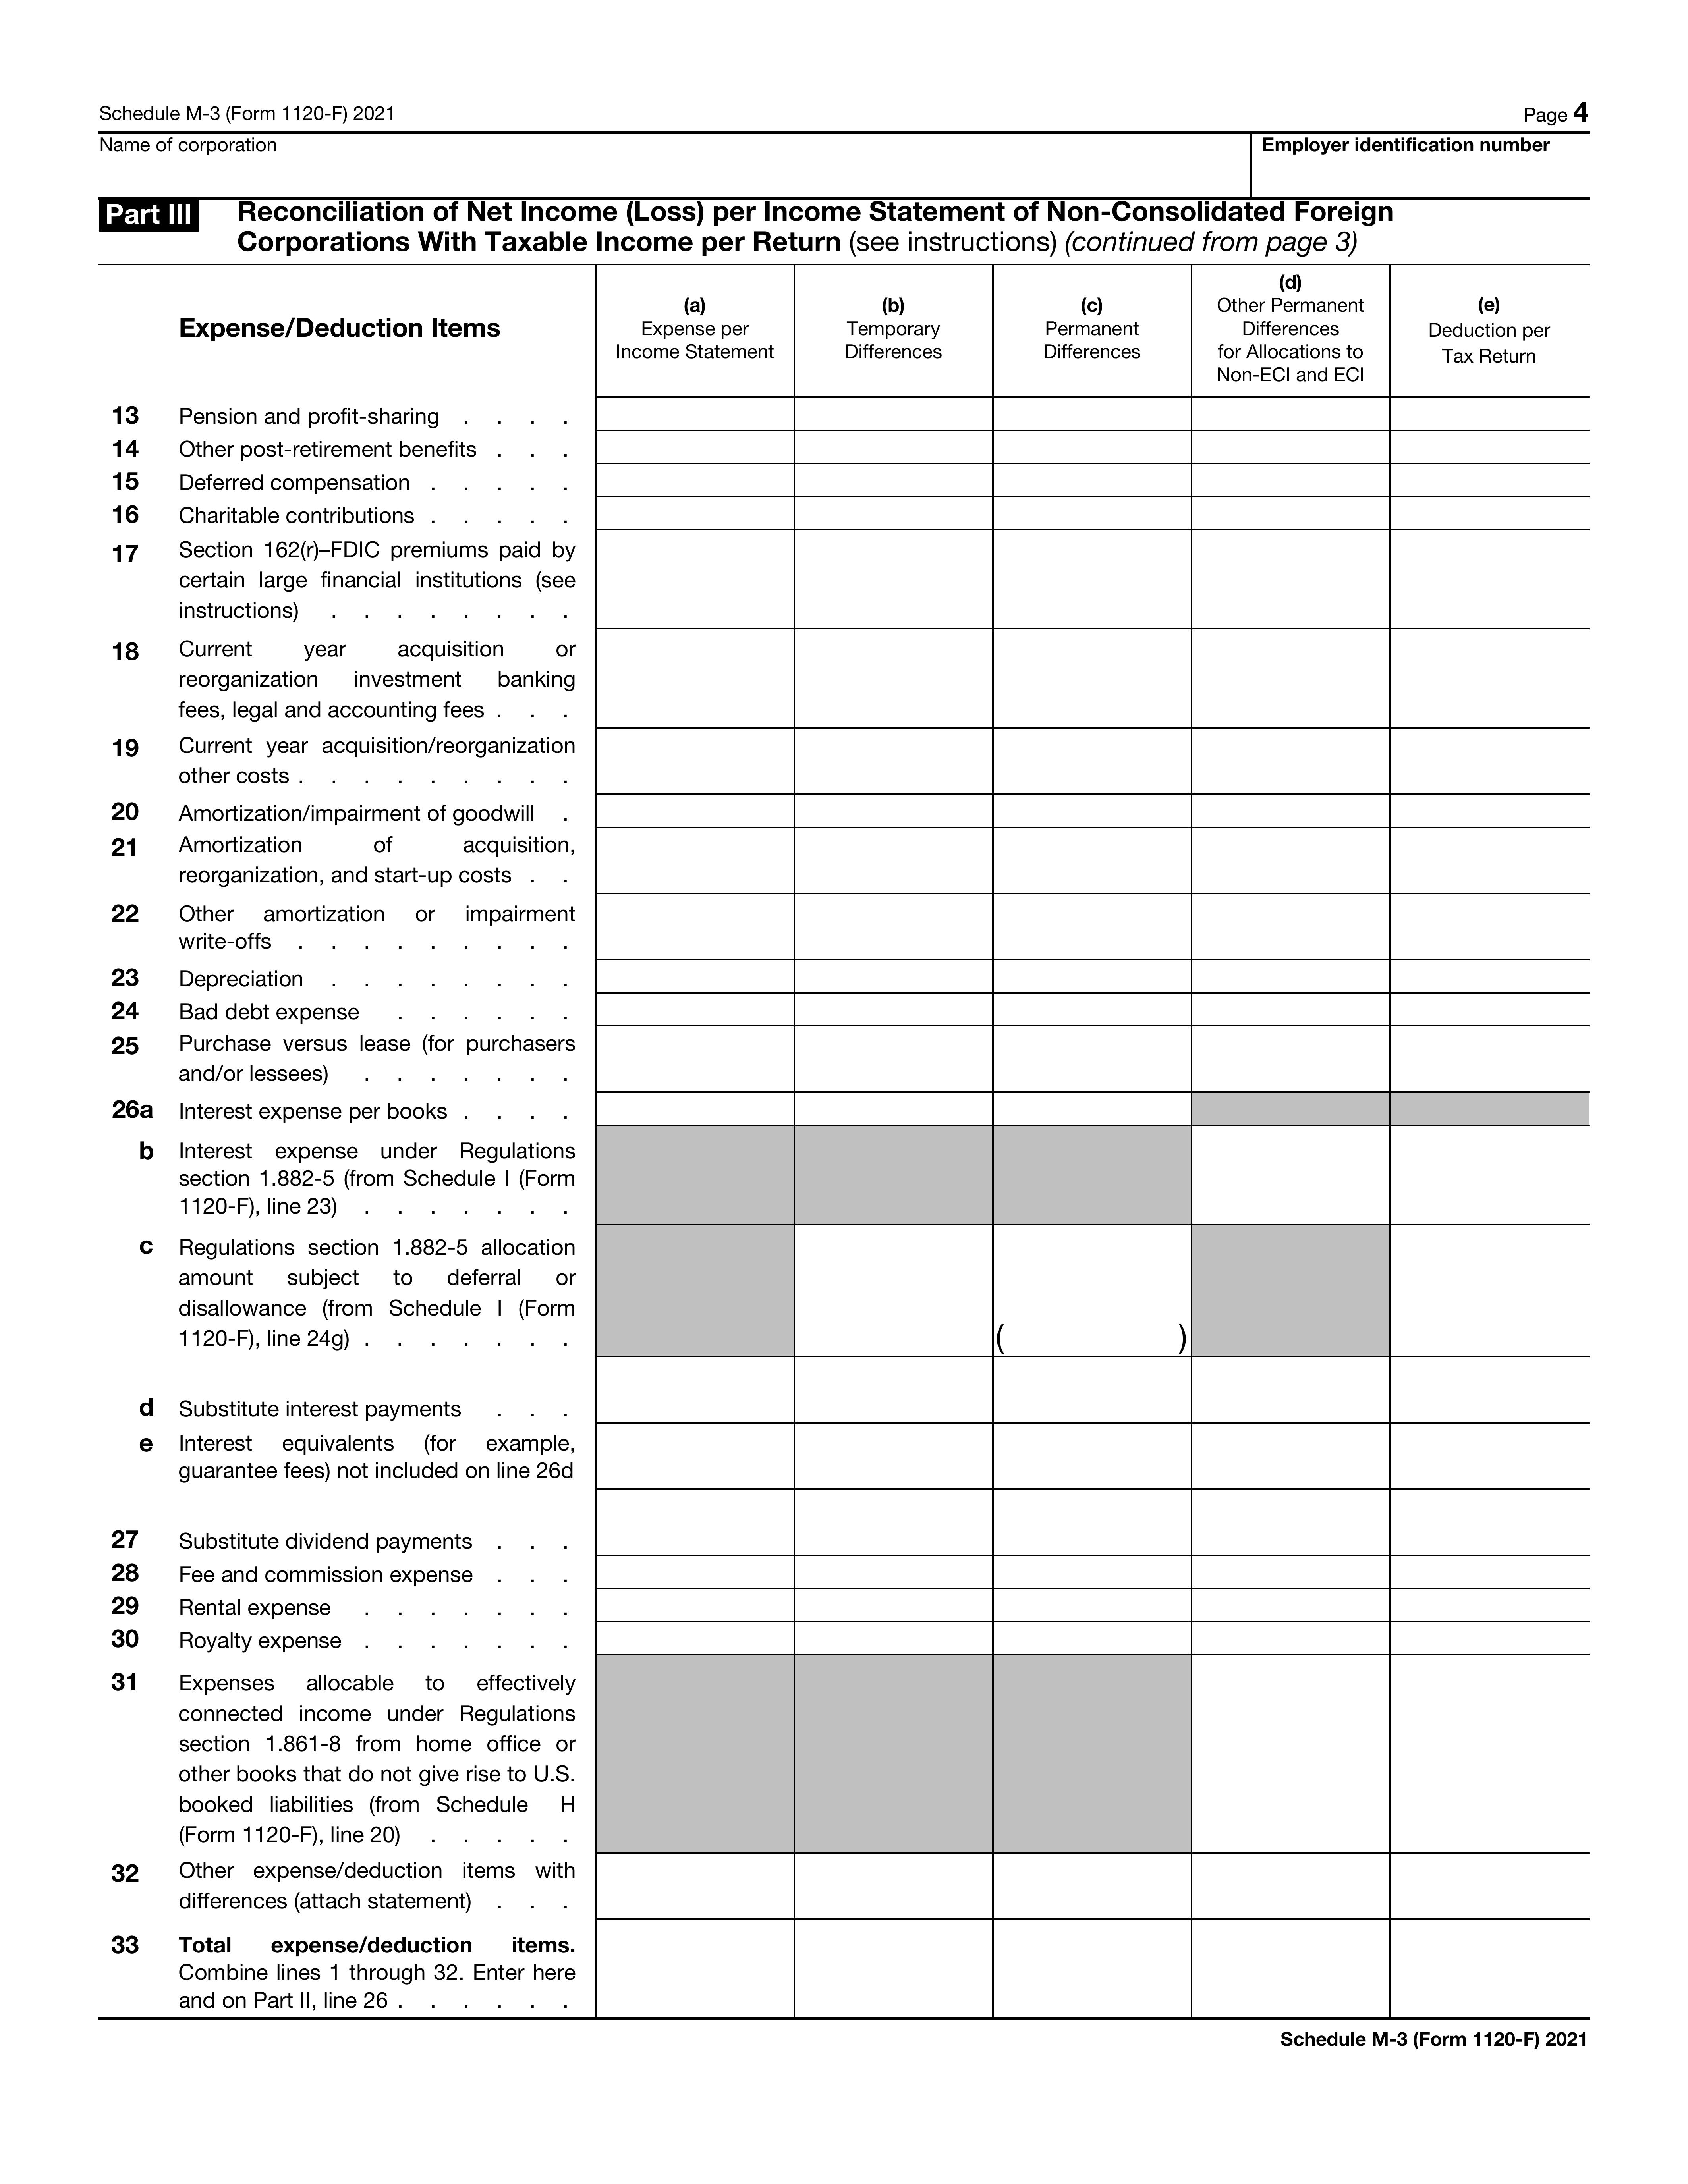table: (76, 259, 1606, 2021)
